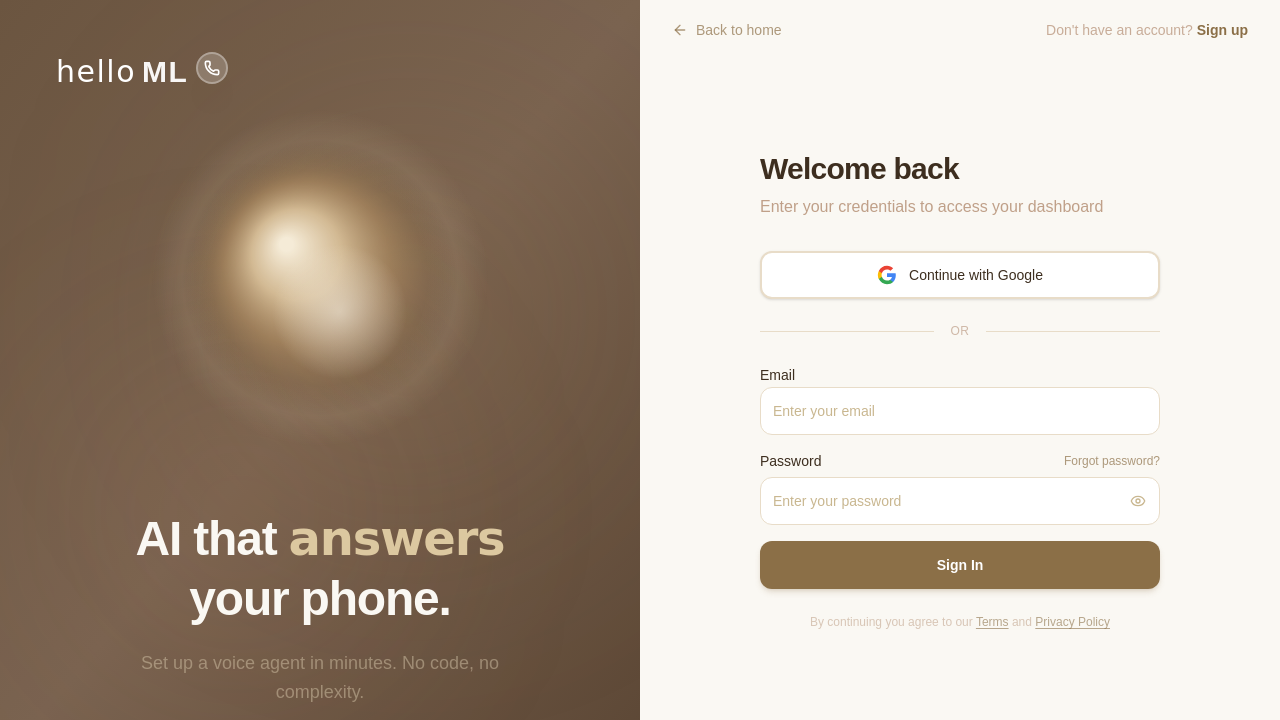
it: Auth Page › login form validates password length
The width and height of the screenshot is (1280, 720).
In the field labelled "Email": (960, 411) [760,387,1160,435], type "test@test.com"
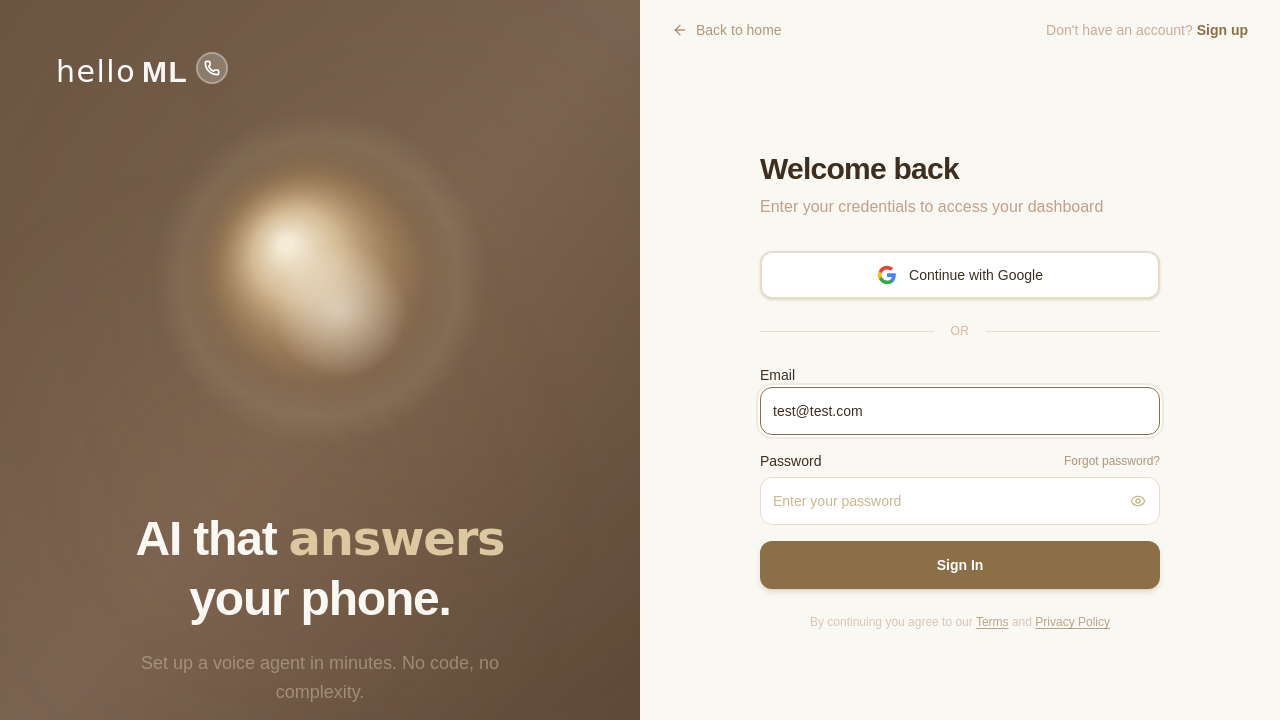
In the password field labelled "Password": (960, 501) [760,477,1160,525], type "123"
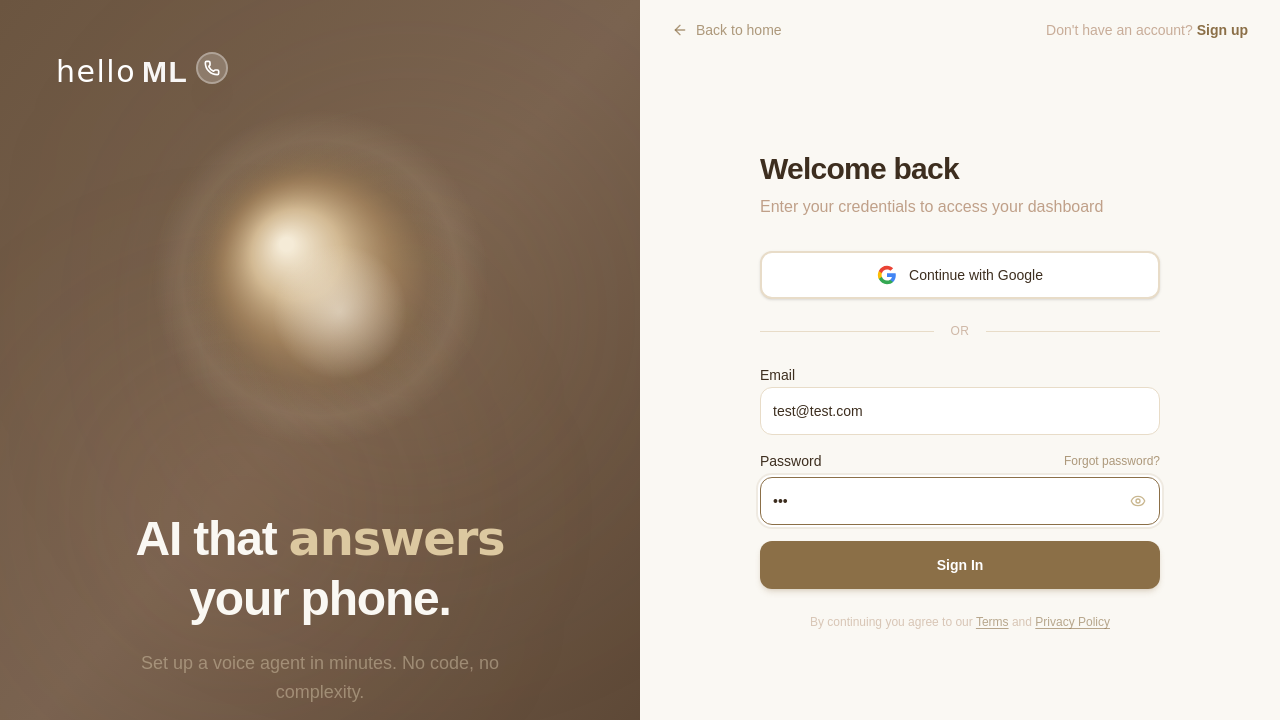
Click the button "Sign In": (960, 565) [760,541,1160,589]
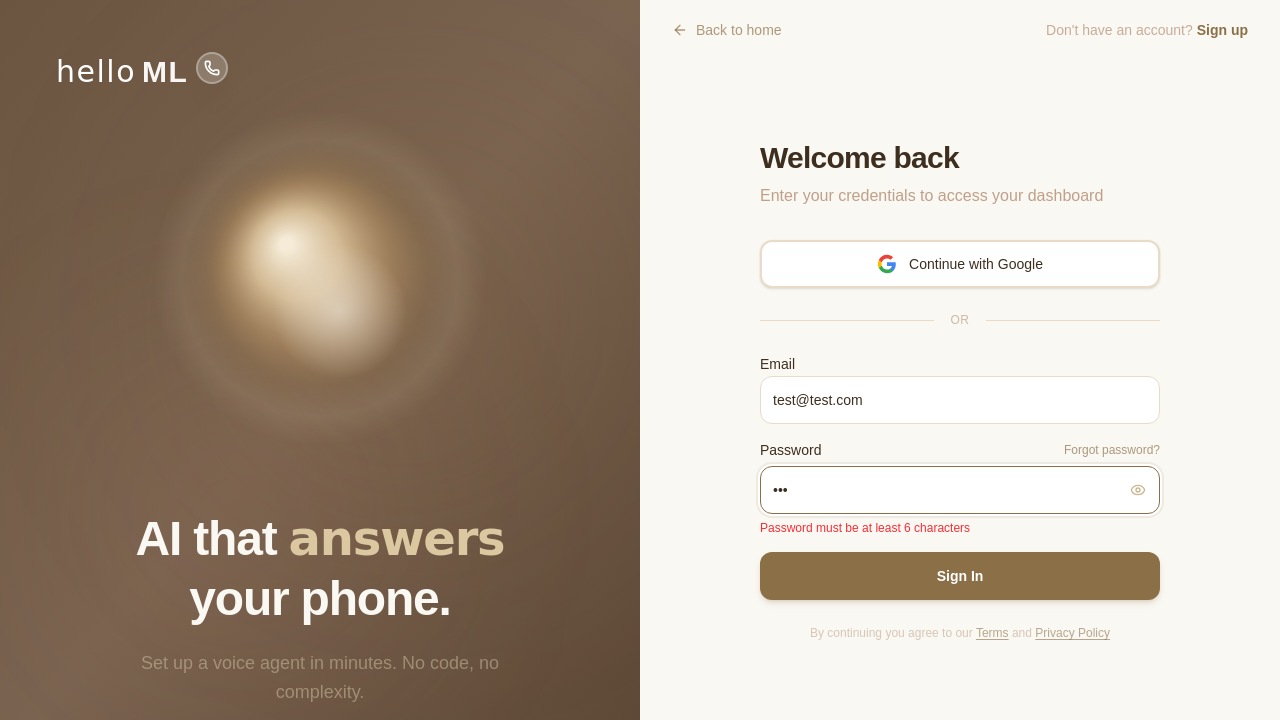
Now the text "Password must be at least 6 characters" is shown, box [760,521,970,535]
